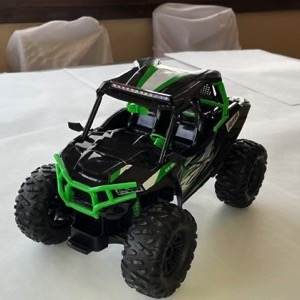polaris: (14, 58, 271, 297)
